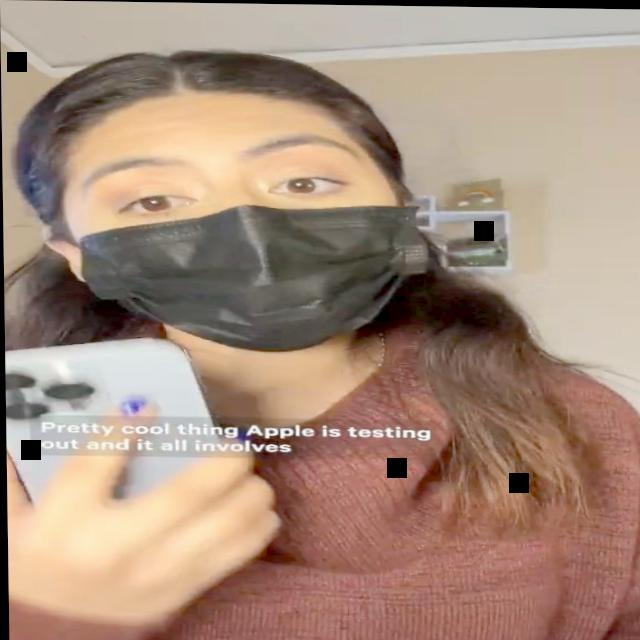Mask: (25, 84, 431, 370)
